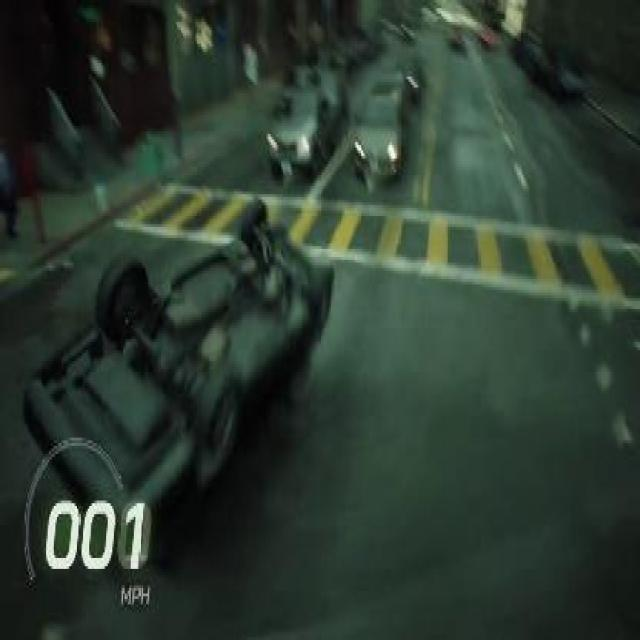accident: (21, 197, 337, 555)
